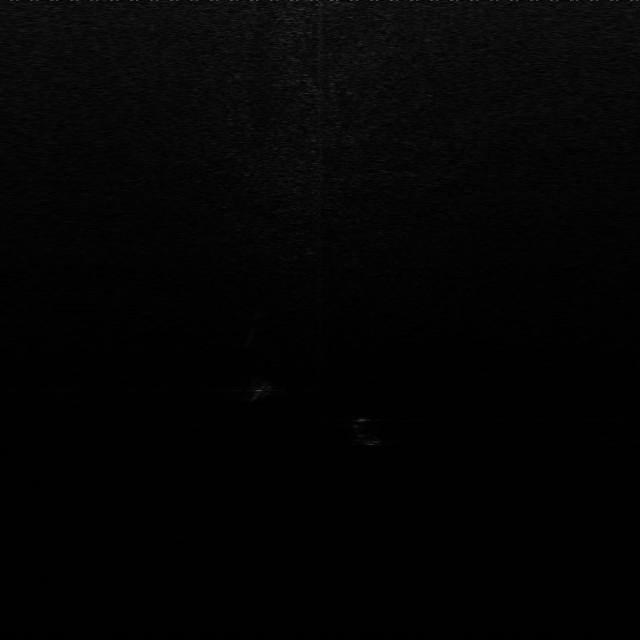circle cage: (238, 377, 282, 405)
tyre: (350, 412, 394, 449)
